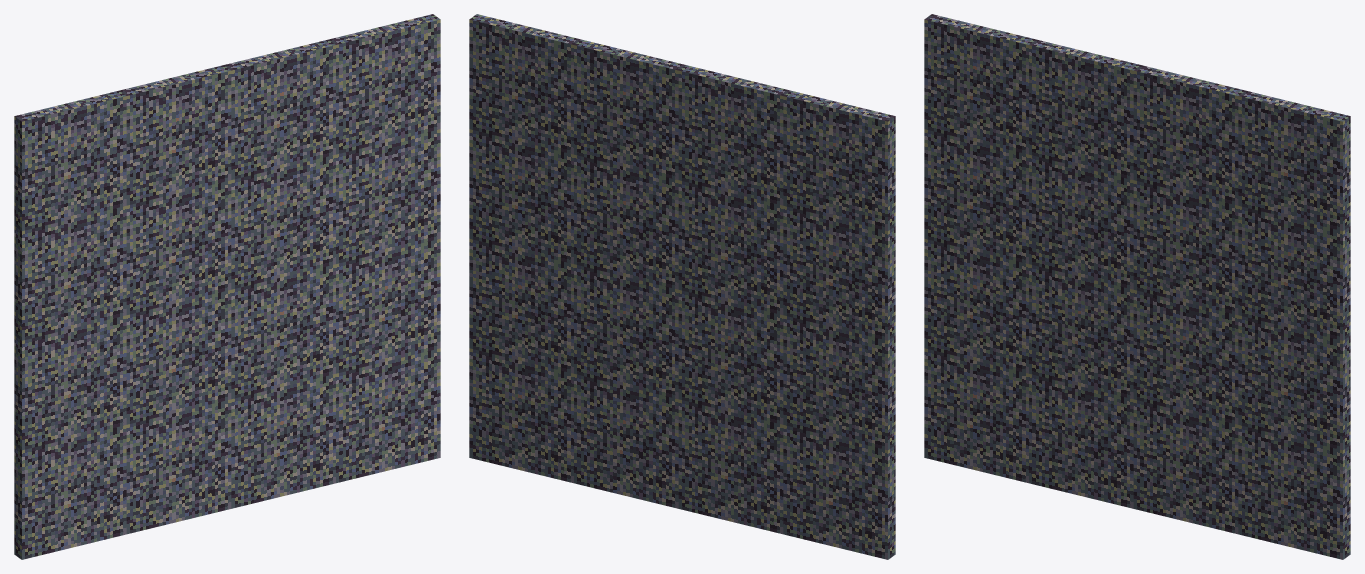
The model's file is wall_textured_e_8_tall_col.gltf.
3 renders of one model, left to right at view 1: azimuth 30°, elevation 25°; view 2: azimuth 150°, elevation 25°; view 3: azimuth 330°, elevation 25°, orthographic.
Visible parts, largest first — view 1: wall_textured_e_8_tall_col; view 2: wall_textured_e_8_tall_col; view 3: wall_textured_e_8_tall_col.
Part boxes in pixels (left/top/right/bottom): wall_textured_e_8_tall_col: left=14, top=14, right=440, bottom=559; wall_textured_e_8_tall_col: left=469, top=14, right=895, bottom=559; wall_textured_e_8_tall_col: left=924, top=14, right=1350, bottom=559.
Size of the model in its own units: 8 by 8 by 0.25.
Materials: 1 (1 with a texture image).
